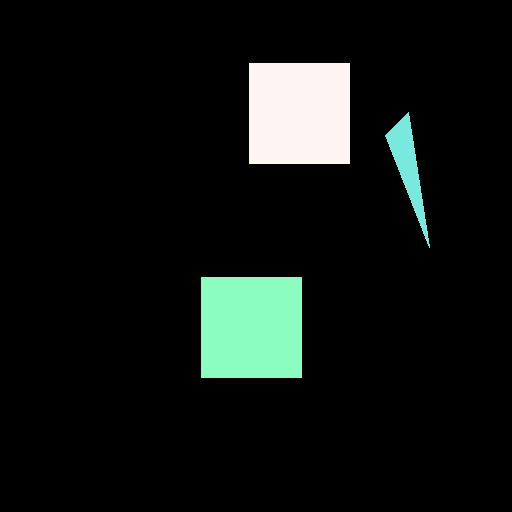square: (201, 277, 301, 377), (249, 63, 349, 163)
triangle: (385, 112, 429, 247)
